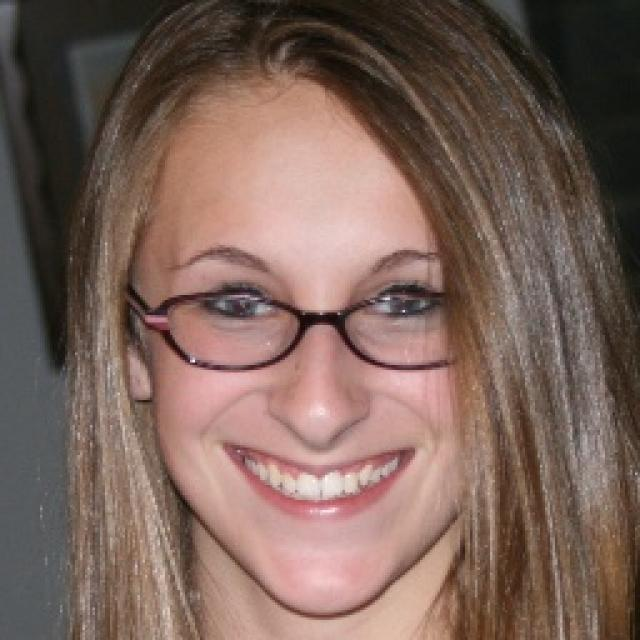earlobe: (121, 352, 156, 404)
eye: (200, 284, 279, 320), (360, 283, 439, 317)
nose: (264, 413, 373, 498)
